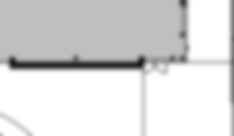double door: (142, 61, 169, 74)
